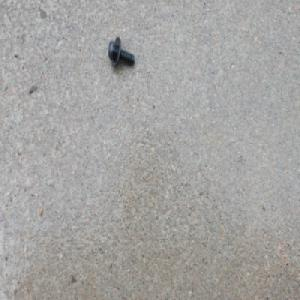BoltWasher: (108, 35, 136, 69)
